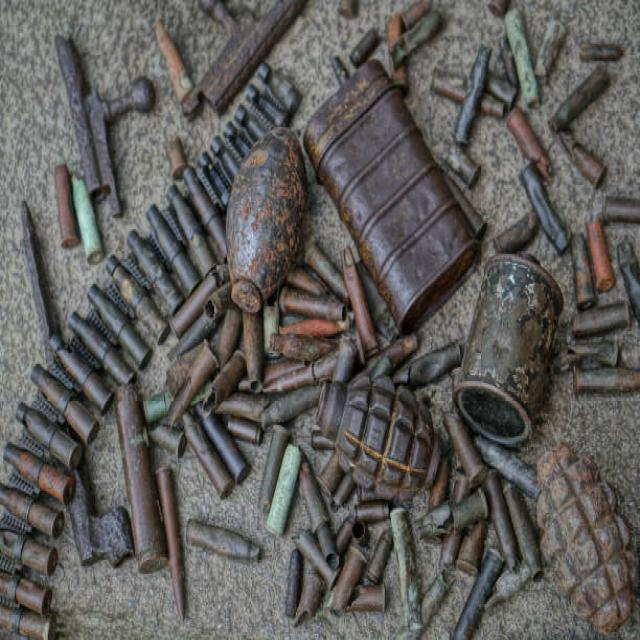grenade: (531, 440, 640, 638), (313, 372, 446, 498), (230, 122, 307, 318)
